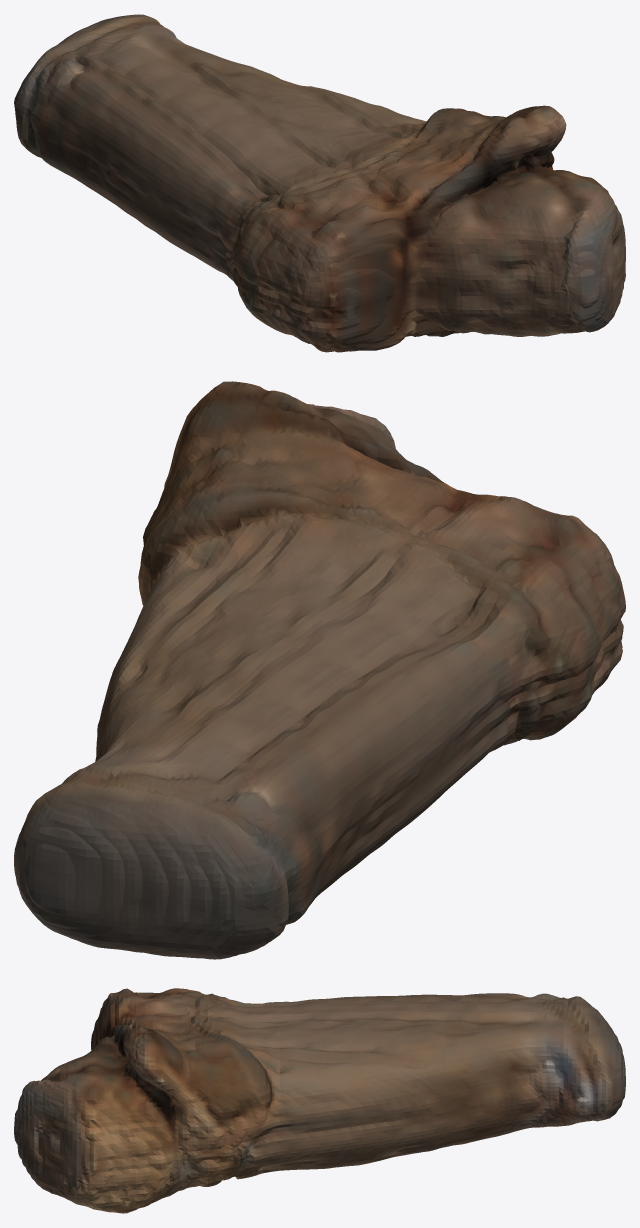
3 renders of one model, top to bottom at view 1: azimuth 30°, elevation 25°; view 2: azimuth 150°, elevation 25°; view 3: azimuth 270°, elevation 25°, orthographic. The views are drawn at different scales.
Size of the model in its own units: 0.5203 by 0.3101 by 0.9865.
